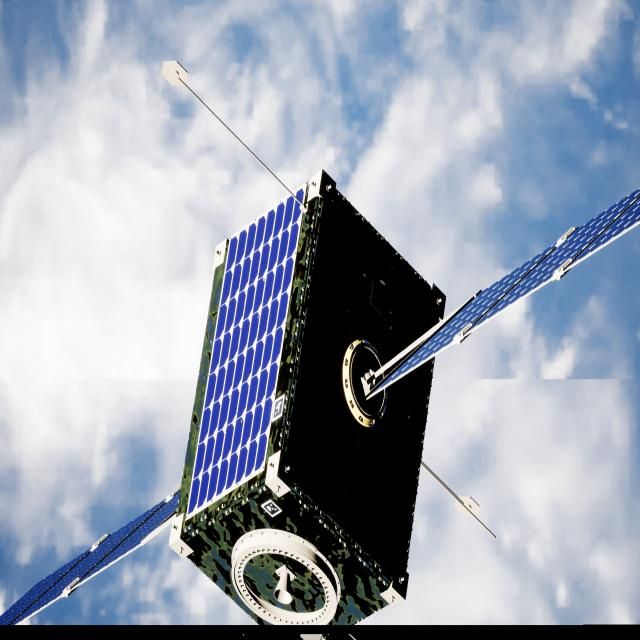medium_debris: (0, 173, 640, 631)
